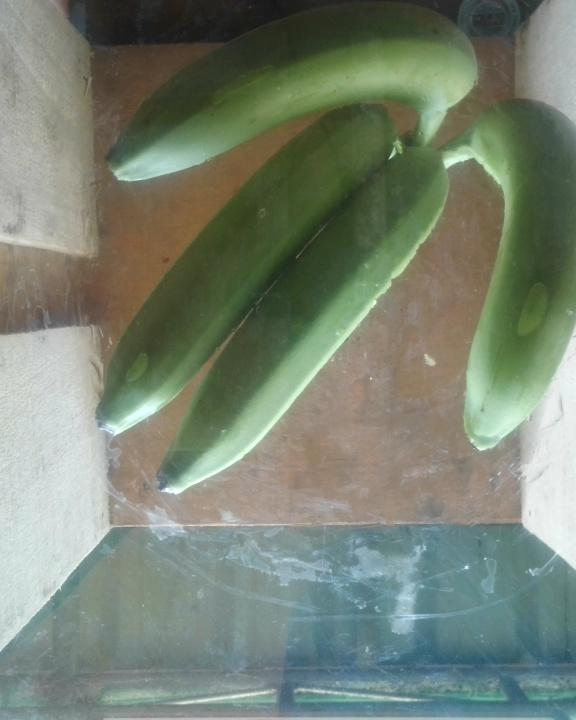SPOT: (86, 11, 576, 511)
